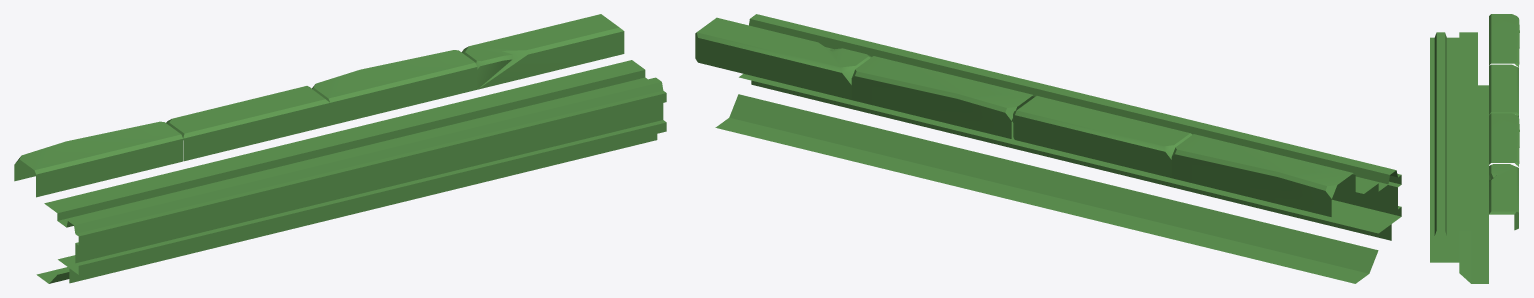
Rendered from parapet top tile lod1.FBX.
3 views of the same model, side by side, from view 1: azimuth 30°, elevation 25°; view 2: azimuth 150°, elevation 25°; view 3: azimuth 270°, elevation 25° (orthographic). The views are drawn at different scales.
Parts seen in each view (by area): view 1: Plane029; view 2: Plane029; view 3: Plane029.
Boxes of the visible parts, left/top/right/bottom form: Plane029: left=14, top=14, right=666, bottom=283; Plane029: left=695, top=14, right=1401, bottom=283; Plane029: left=1430, top=14, right=1519, bottom=283.
Bounding box in the file's own units: 4 × 0.6875 × 0.764.
